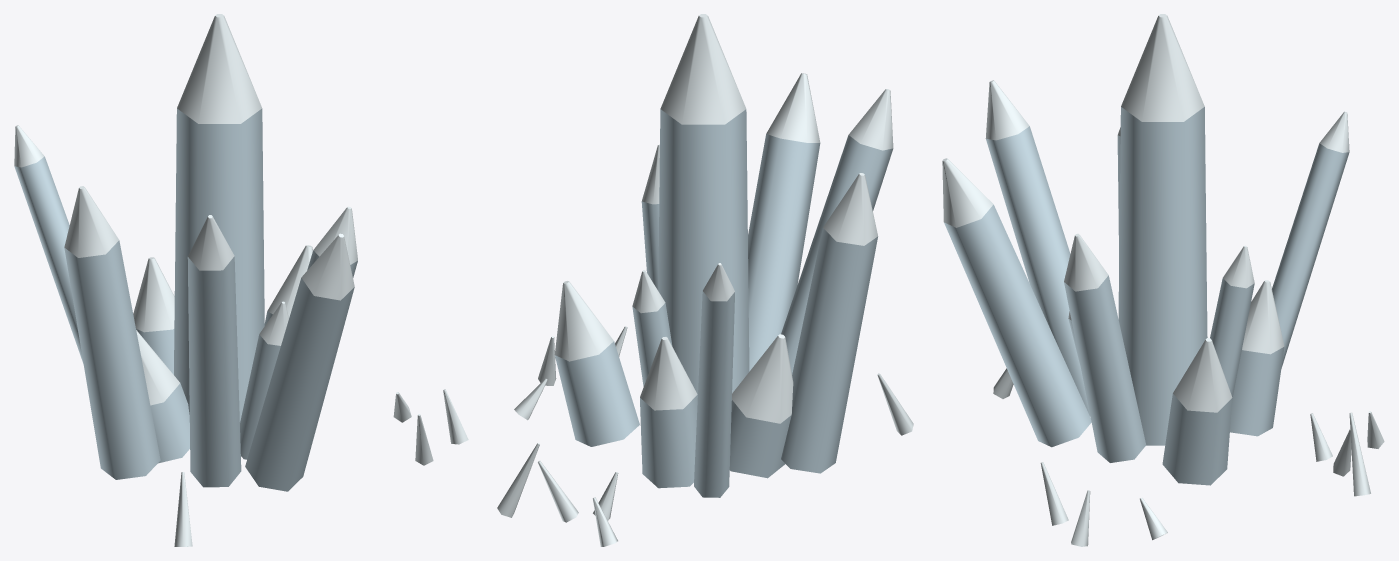
The model's file is ore_ice.fbx.
The picture shows the model from 3 angles, left to right: view 1: azimuth 30°, elevation 25°; view 2: azimuth 150°, elevation 25°; view 3: azimuth 270°, elevation 25°; orthographic projection. The views are drawn at different scales.
Visible parts, largest first — view 1: ore_ice; view 2: ore_ice; view 3: ore_ice.
Boxes of the visible parts, left/top/right/bottom form: ore_ice: left=14, top=14, right=468, bottom=546; ore_ice: left=497, top=14, right=913, bottom=546; ore_ice: left=942, top=14, right=1384, bottom=546.
Size of the model in its own units: 1.08 by 1.27 by 1.16.
